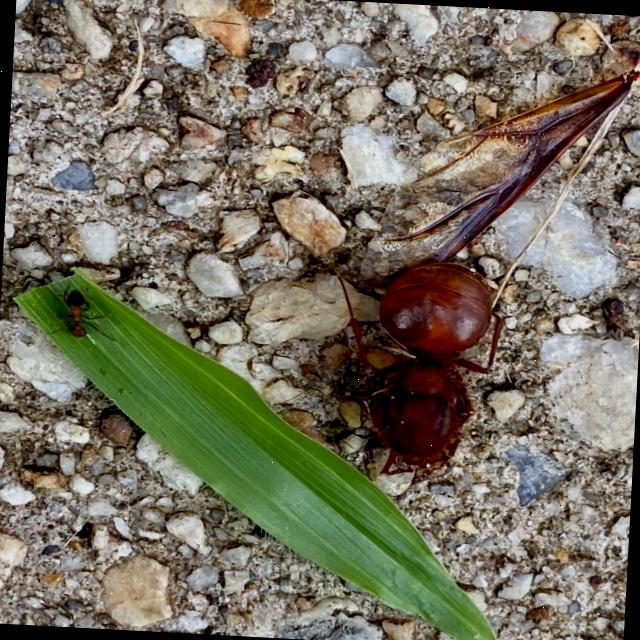Dead-Male-Dealate: (326, 256, 509, 490)
